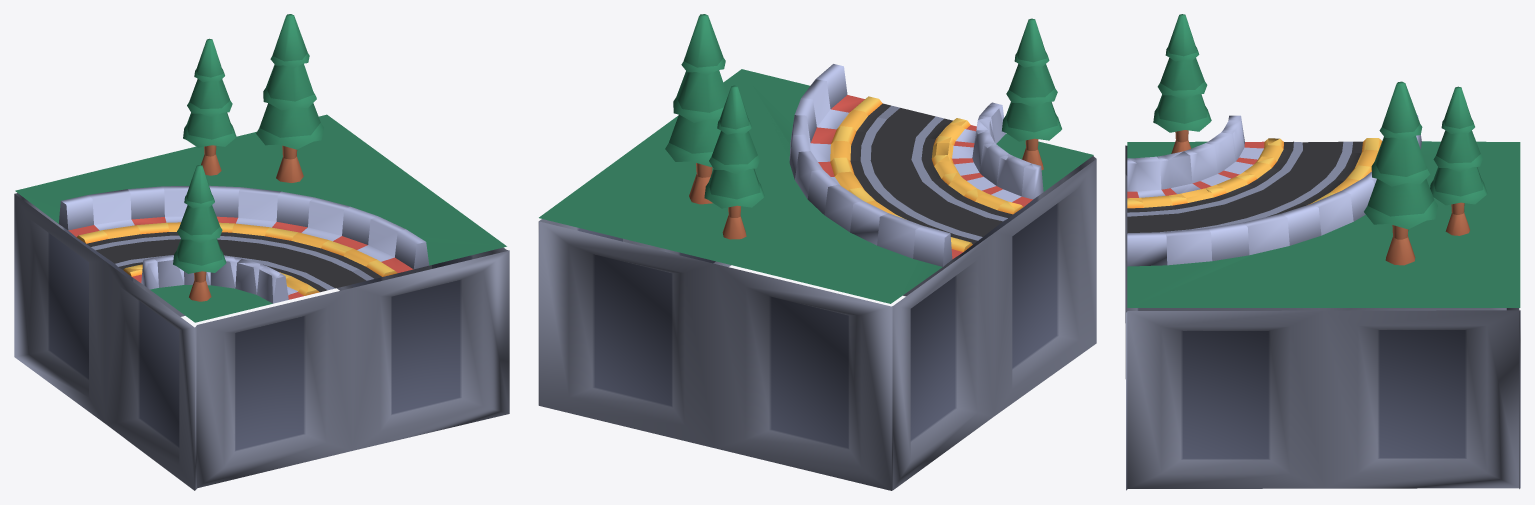
File: elev-thin-corner.glb
3 renders of one model, left to right at view 1: azimuth 30°, elevation 25°; view 2: azimuth 150°, elevation 25°; view 3: azimuth 270°, elevation 25°, orthographic. The views are drawn at different scales.
Visible parts, largest first — view 1: track-corner.005; view 2: track-corner.005; view 3: track-corner.005.
Boxes of the visible parts, <box> form: track-corner.005: <box>14,14,509,490</box>; track-corner.005: <box>538,14,1096,490</box>; track-corner.005: <box>1125,14,1520,490</box>.
Size of the model in its own units: 10.1 by 10.05 by 10.06.
Materials: 4 (4 with a texture image).
